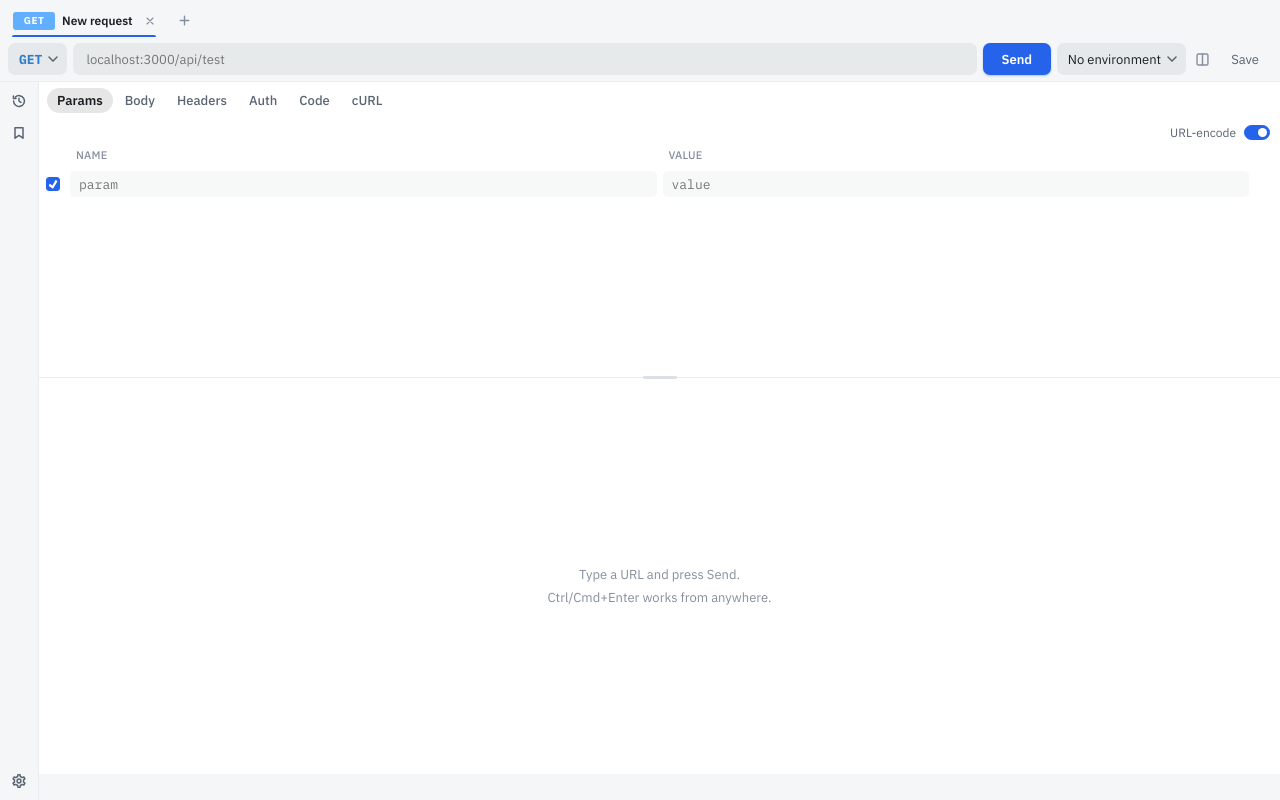
Test: sending › shows invalid JSON verbatim rather than an error
This screenshot has width=1280, height=800.
In the field named "URL": (525, 59) [73, 43, 977, 75], type "localhost:3000"
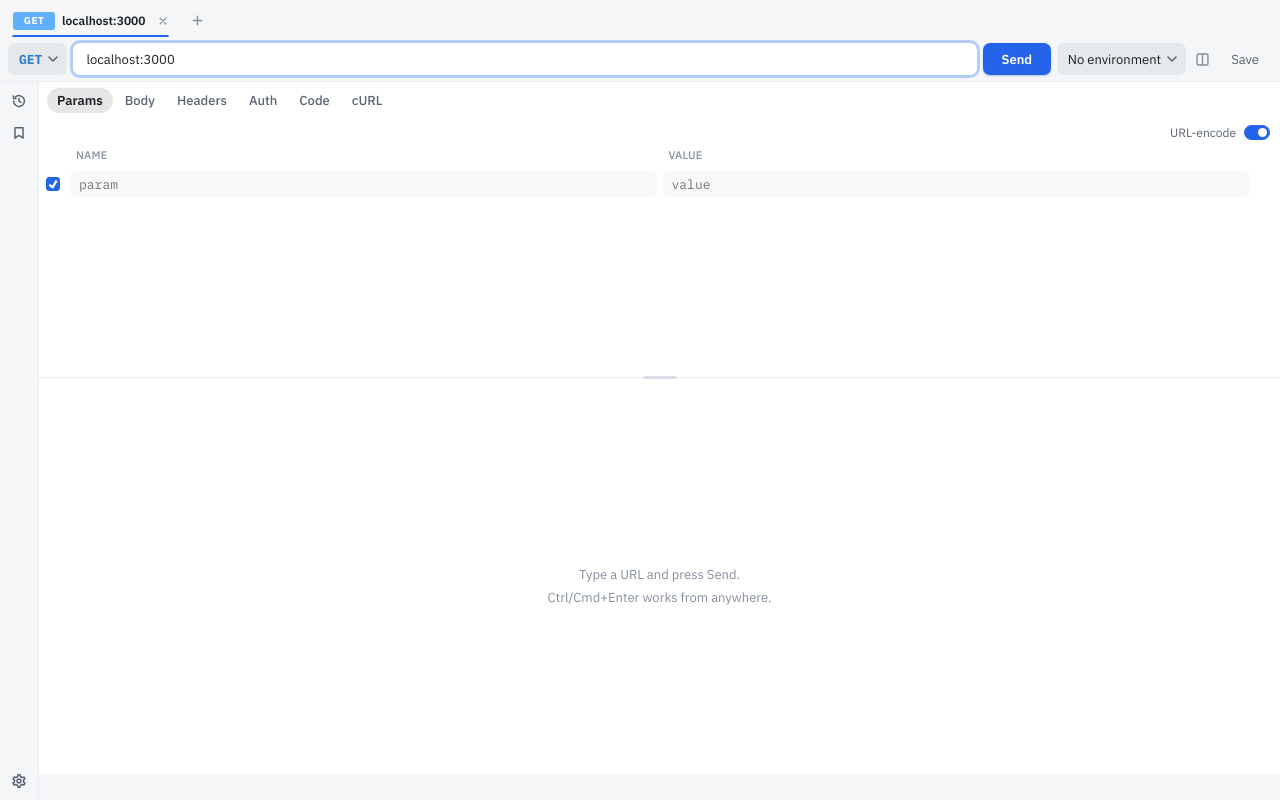
Click the button "Send": click(1017, 59) [983, 43, 1051, 75]
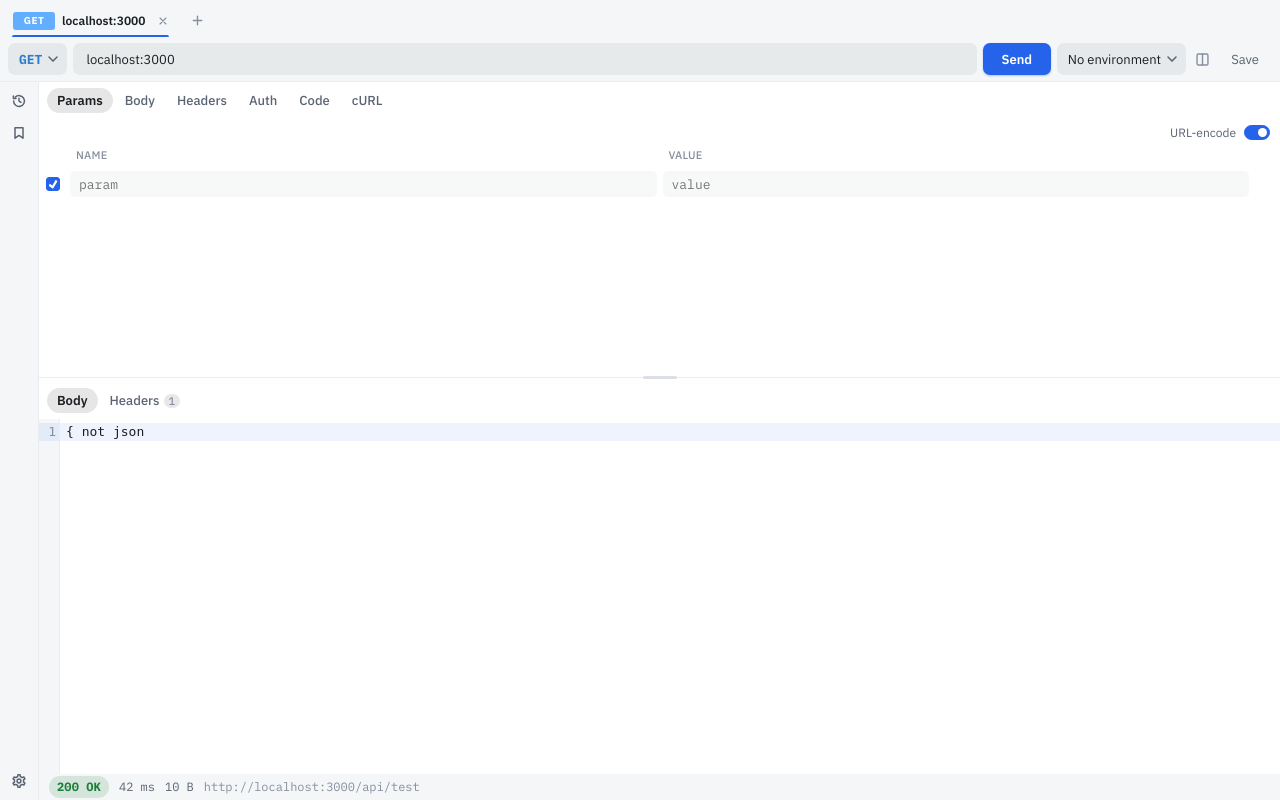
Result: the text "200 OK" is shown at [49, 776, 109, 798]
Result: the element showing "{ not json" is shown at [60, 423, 1279, 441]
